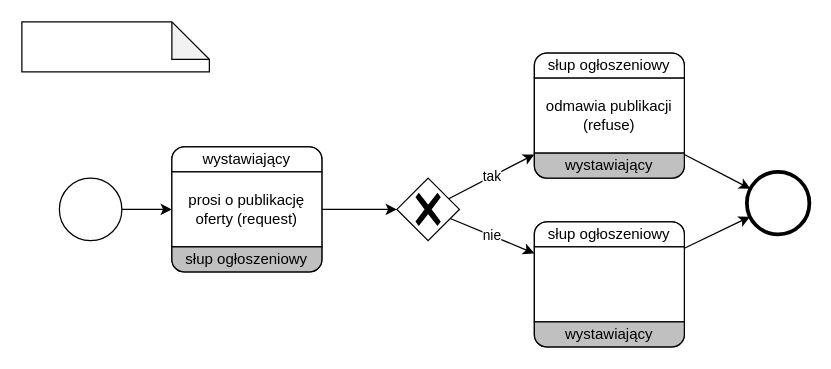
This 831x369 diagram has some shape labels left out. Each missing label, with the centre of its shape:
czy konto zablokowane?: the point at 427,209
potwierdza publikację oferty (agree): the point at 608,284
wysłanie oferty: the point at 115,46
